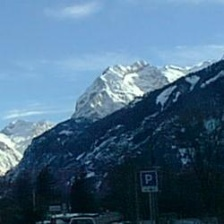neutral: (1, 8, 223, 222)
